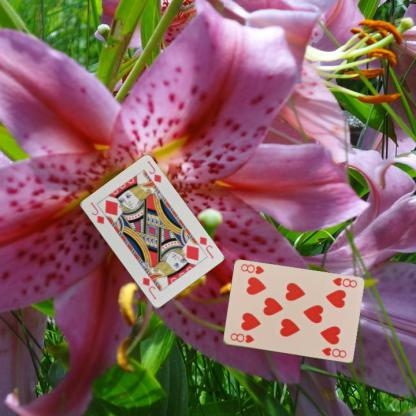8h: (329, 275, 358, 289), (228, 330, 255, 344)
Jd: (87, 200, 105, 226), (197, 234, 214, 259)
